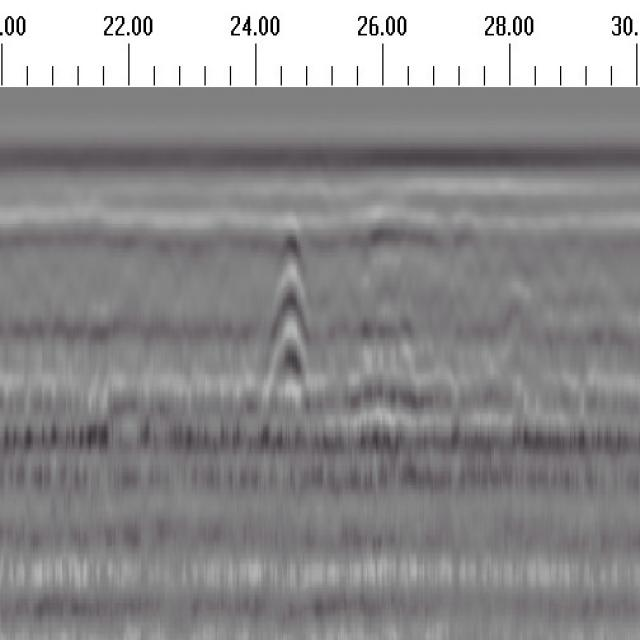crack: (270, 209, 312, 402)
